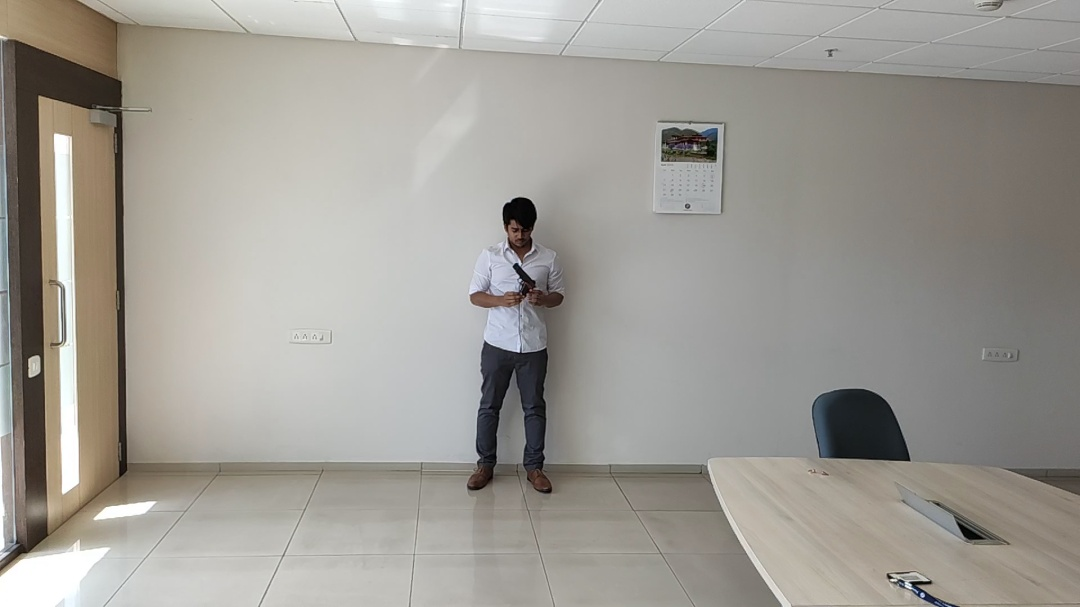gun: (404, 111, 704, 539)
